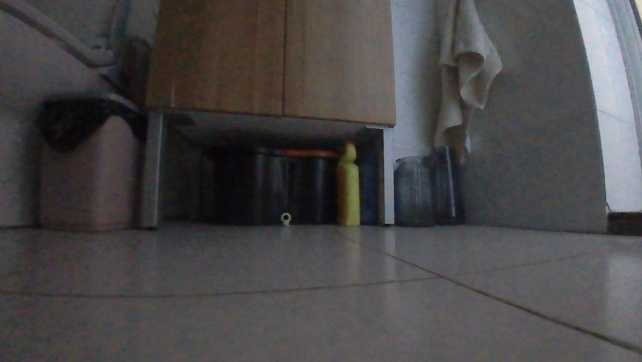toilet: (0, 0, 120, 232)
trash_can: (33, 90, 142, 233)
